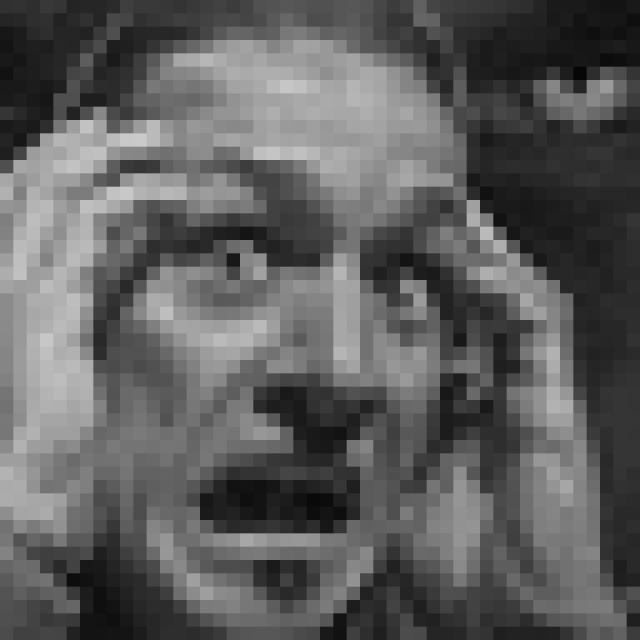fear: (140, 145, 471, 585)
